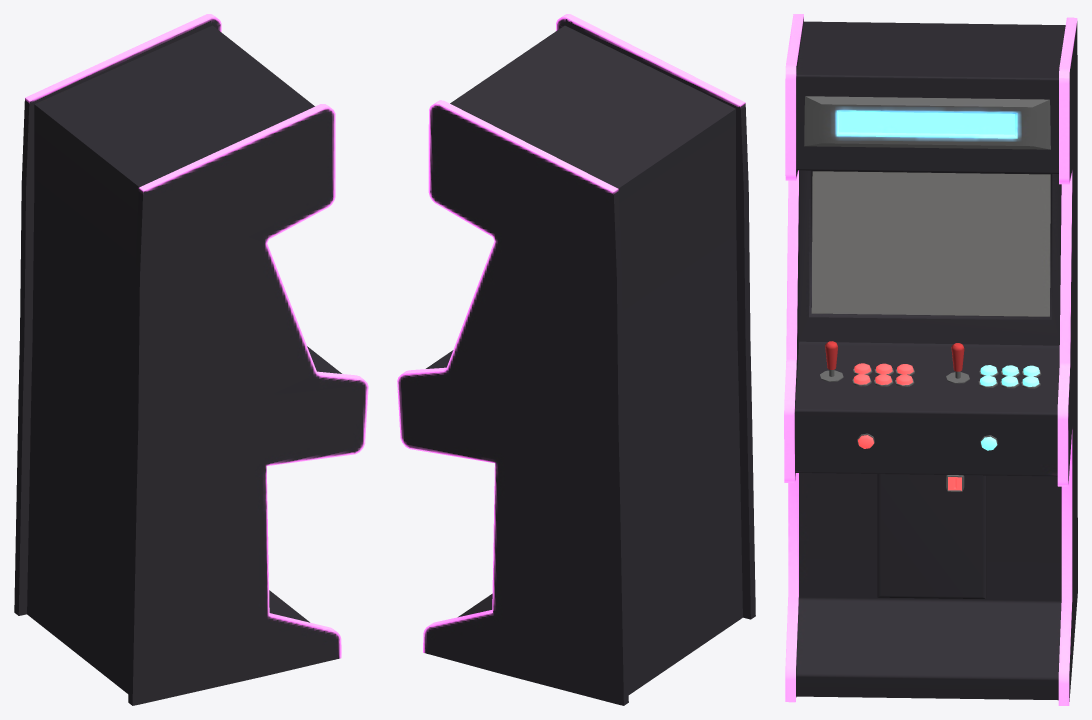
File: arcade.glb
3 views of the same model, side by side, from view 1: azimuth 30°, elevation 25°; view 2: azimuth 150°, elevation 25°; view 3: azimuth 270°, elevation 25° (orthographic). The views are drawn at different scales.
Visible parts, largest first — view 1: pasted__polySurface158.001; view 2: pasted__polySurface158.001; view 3: pasted__polySurface158.001.
Part boxes in pixels (bbox=[...]): pasted__polySurface158.001: bbox=[14, 14, 368, 705]; pasted__polySurface158.001: bbox=[397, 14, 755, 705]; pasted__polySurface158.001: bbox=[784, 14, 1077, 705].
Size of the model in its own units: 0.5126 by 1.14 by 0.4819.
Materials: 1 (1 with a texture image).
